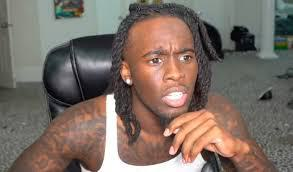kai-cenat: (114, 4, 213, 122)
